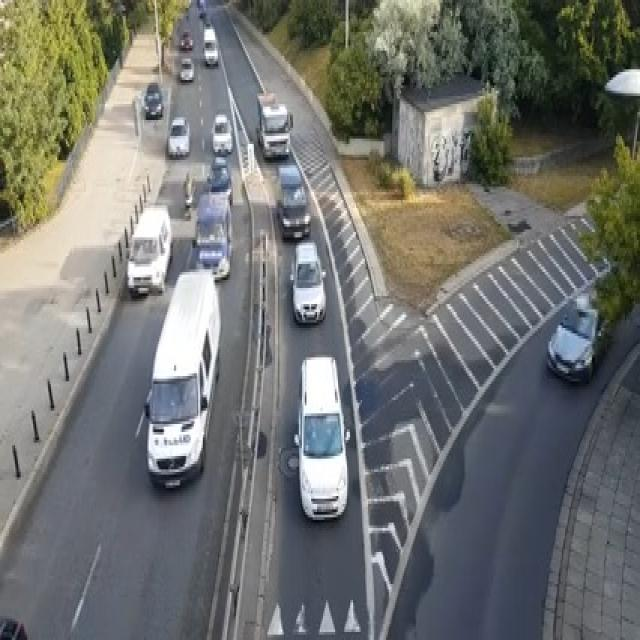bus: (141, 267, 221, 488)
car: (293, 355, 350, 520), (545, 293, 607, 384), (126, 203, 173, 296), (192, 192, 232, 280), (288, 240, 326, 325), (275, 163, 311, 240), (255, 91, 293, 160), (206, 154, 233, 202), (210, 112, 233, 155), (167, 115, 189, 157), (141, 80, 164, 117), (0, 616, 29, 637), (203, 24, 218, 64), (179, 56, 194, 80), (179, 29, 192, 48), (197, 0, 206, 16)
